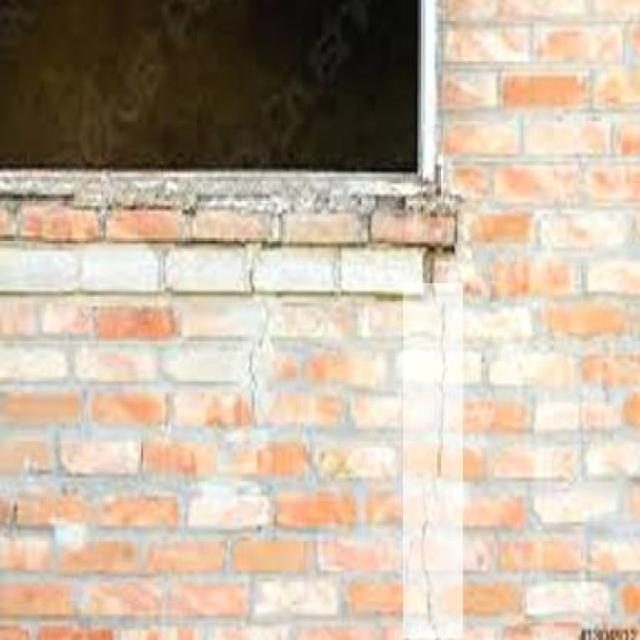Crack: (412, 287, 463, 640), (245, 282, 282, 434)
